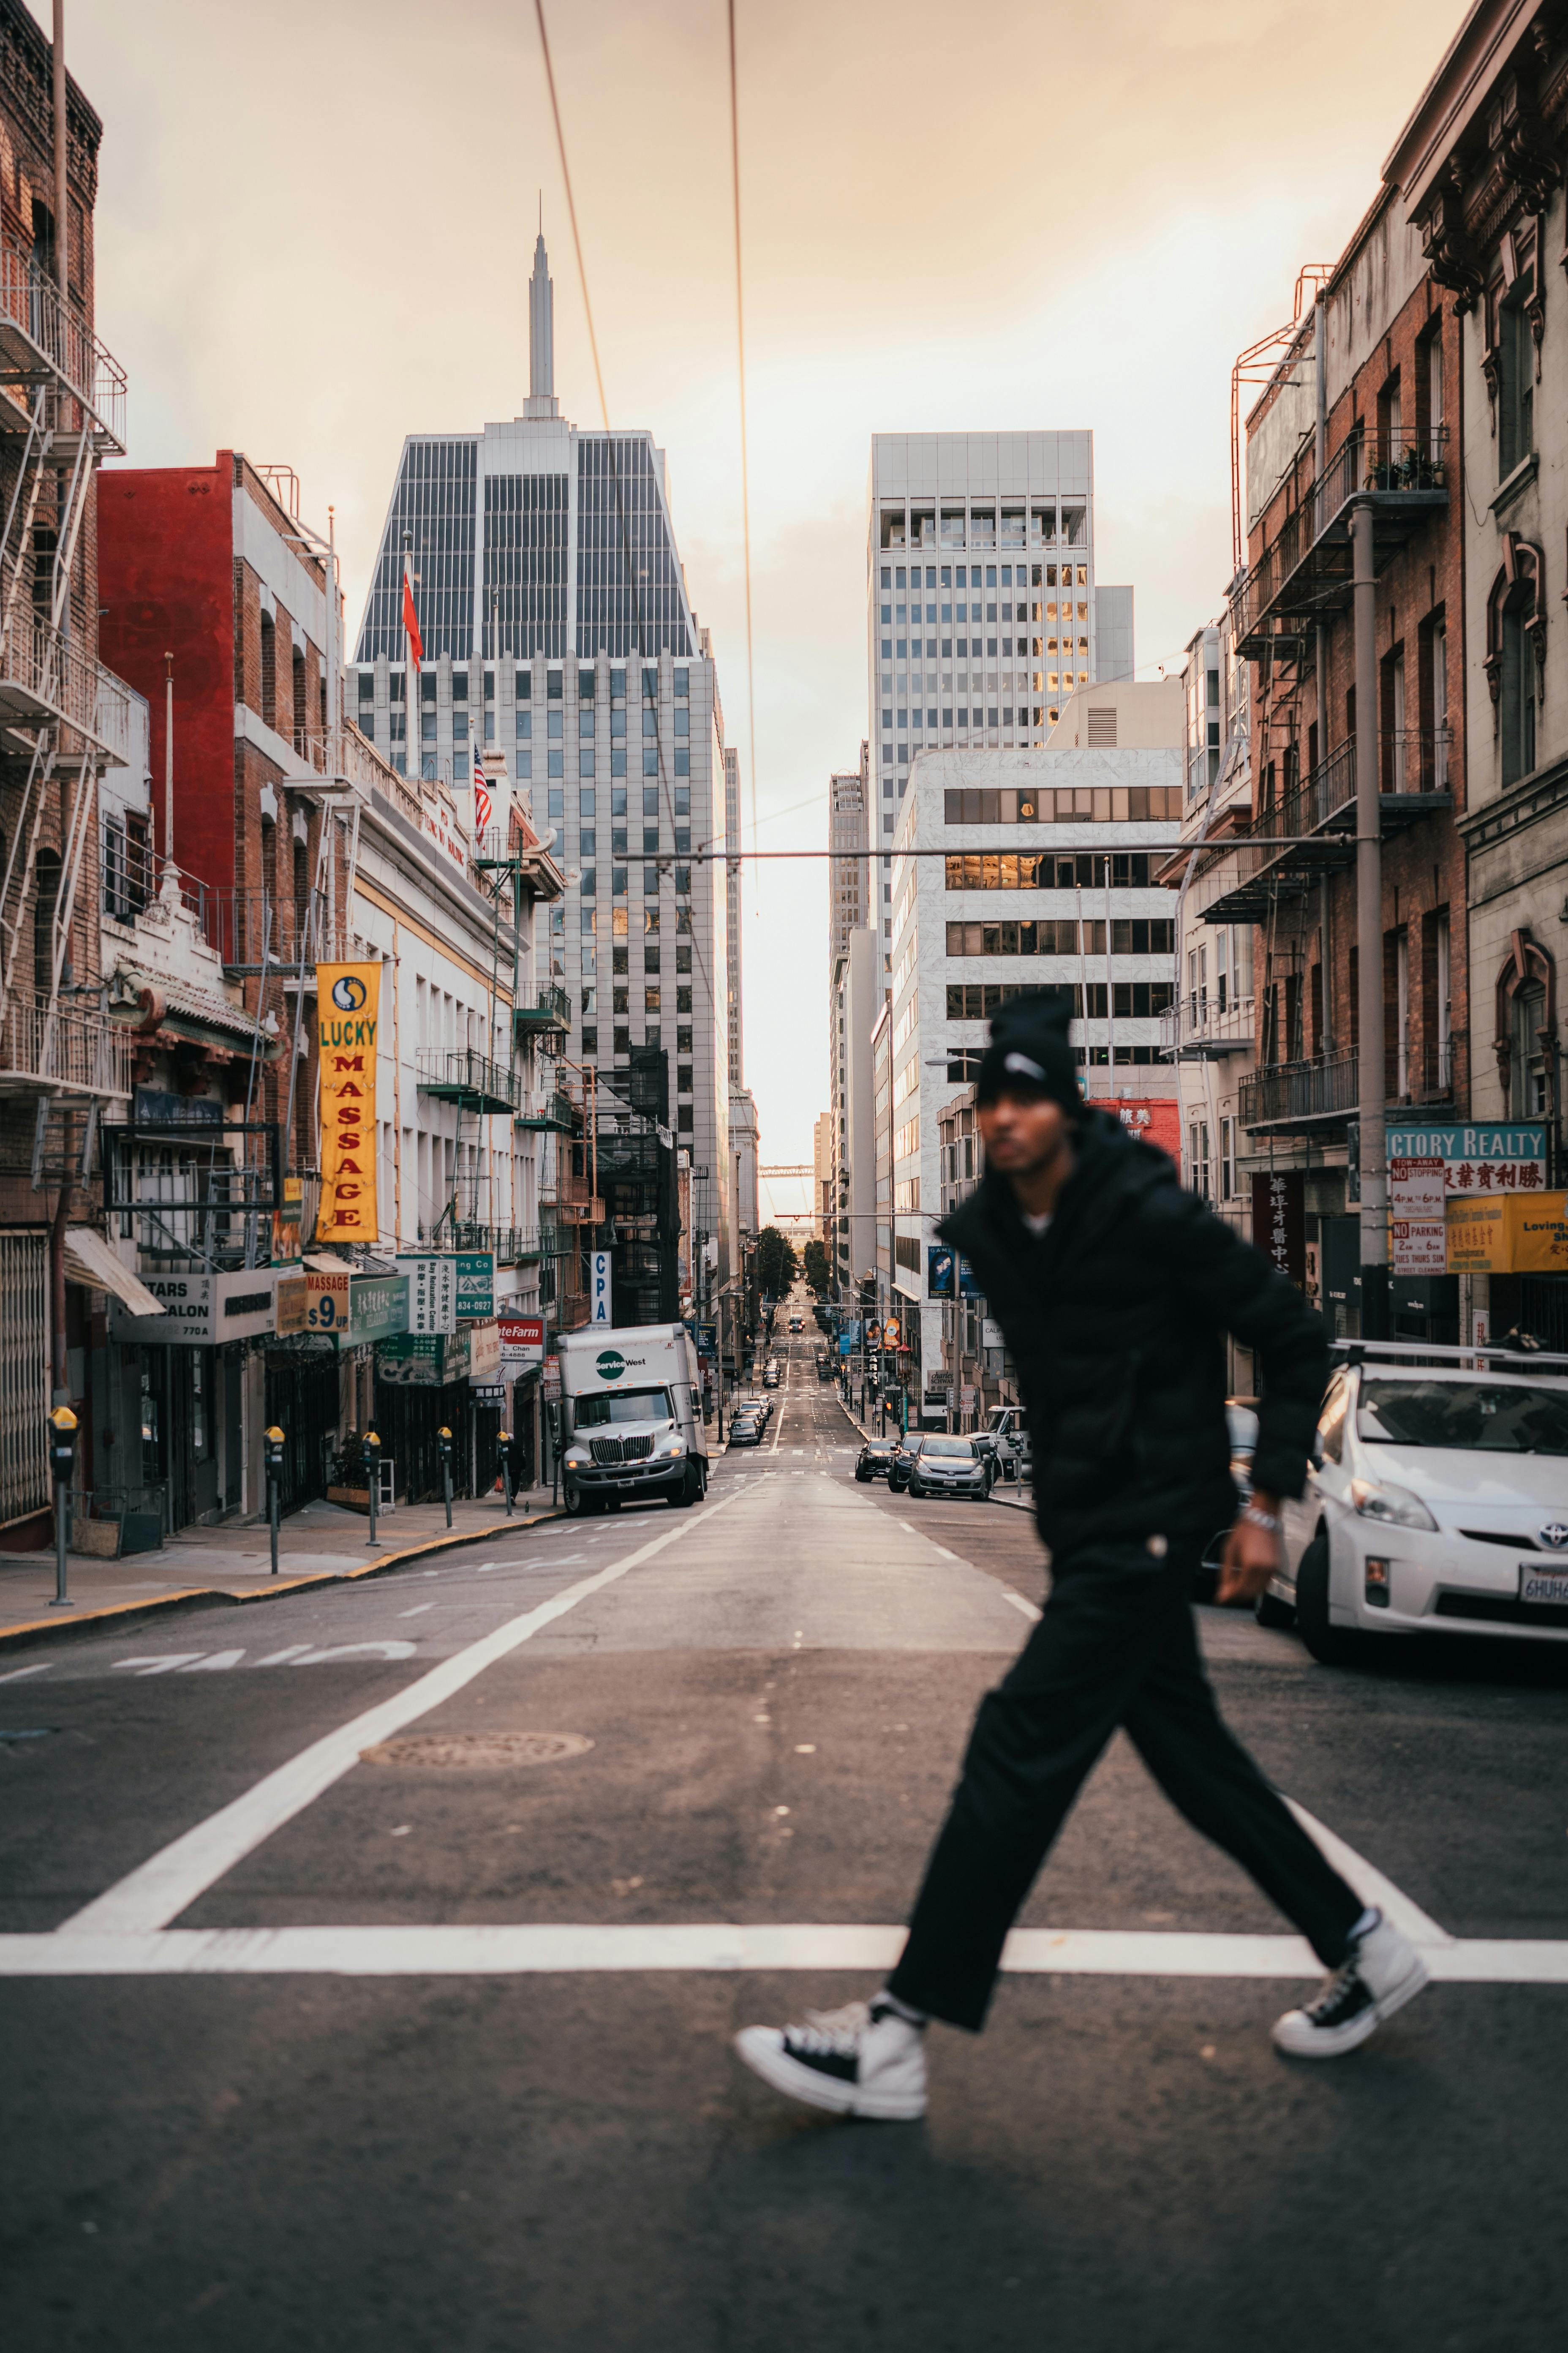car: (550, 1300, 716, 1534), (894, 1423, 999, 1514)
person: (742, 1001, 1437, 2148)
